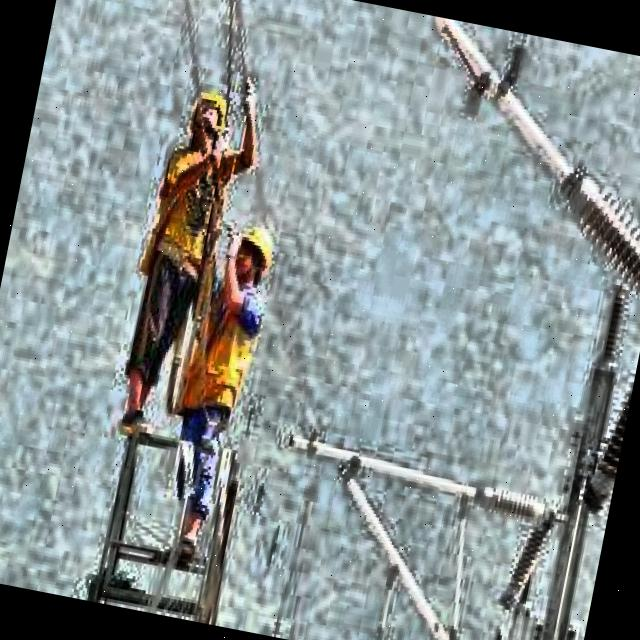helmet: (225, 215, 280, 302), (182, 76, 232, 156)
